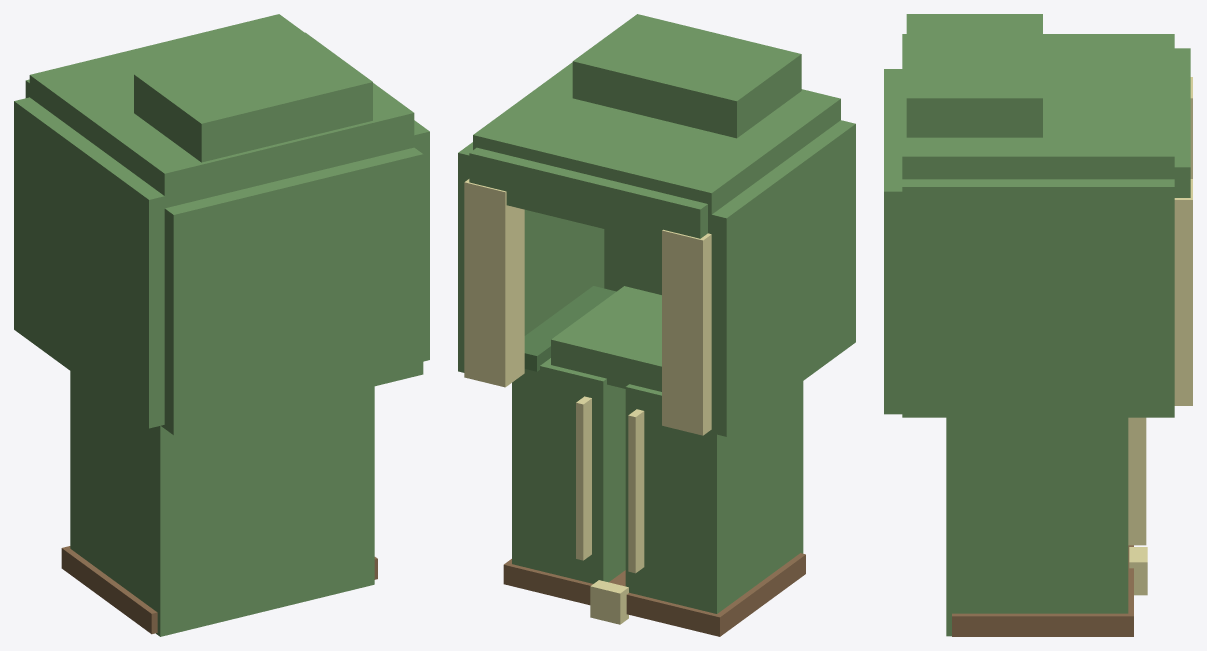
The model's file is elfico_tronco.glb.
3 renders of one model, left to right at view 1: azimuth 30°, elevation 25°; view 2: azimuth 150°, elevation 25°; view 3: azimuth 270°, elevation 25°, orthographic. The views are drawn at different scales.
Visible parts, largest first — view 1: elfico_tronco; view 2: elfico_tronco; view 3: elfico_tronco.
Boxes of the visible parts, x1,y1,x2,y2 form: elfico_tronco: (14,14,429,636); elfico_tronco: (458,14,855,636); elfico_tronco: (884,14,1192,636).
Size of the model in its own units: 0.72 by 1.29 by 0.68.
